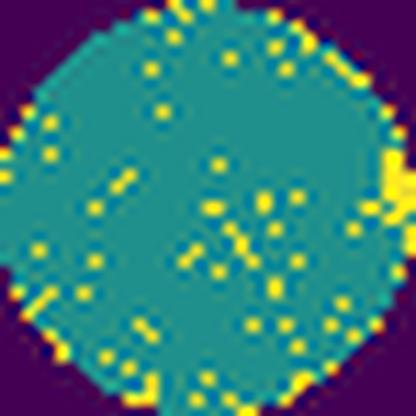Edge-Loc: (355, 148, 416, 223)
